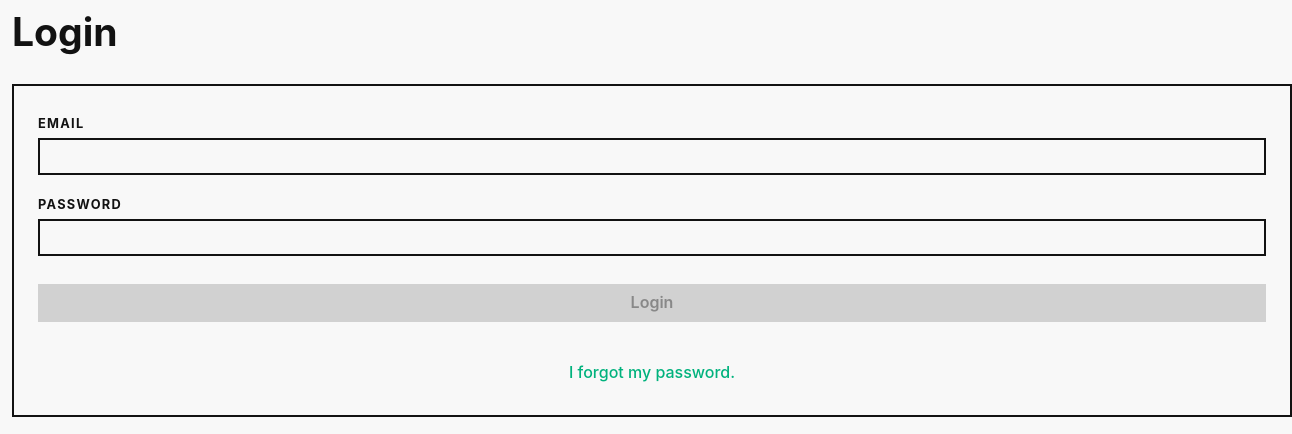
it: disables the submit button until all inputs are filled out
Expected: the submit button is disabled, [38, 284, 1266, 322]
Type "hi@hi.com" into the field named "email" at coordinates (652, 156), box [38, 138, 1266, 175]
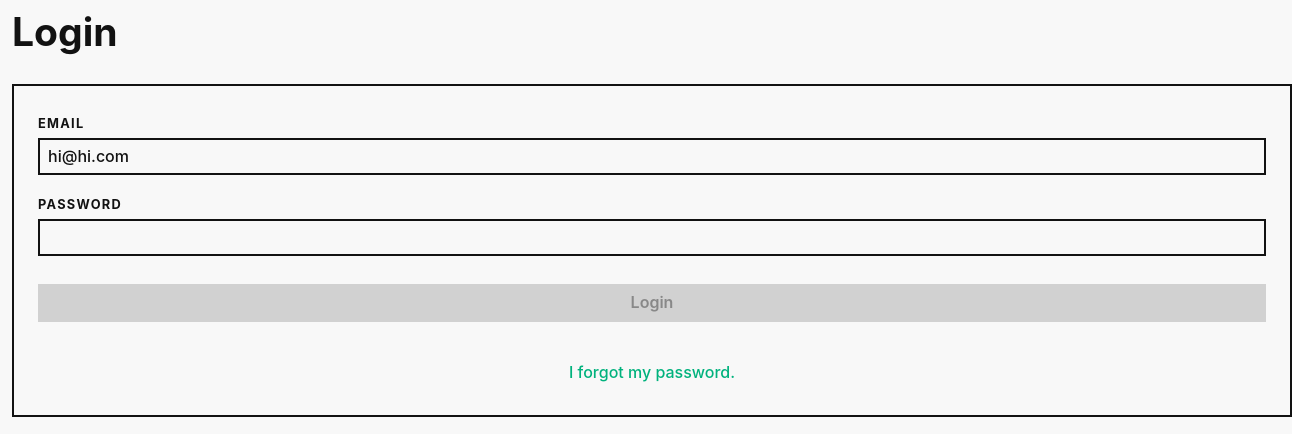
Expected: the submit button is disabled, [38, 284, 1266, 322]
Type "coolPassword" into the password field named "password" at coordinates (652, 238), box [38, 219, 1266, 256]
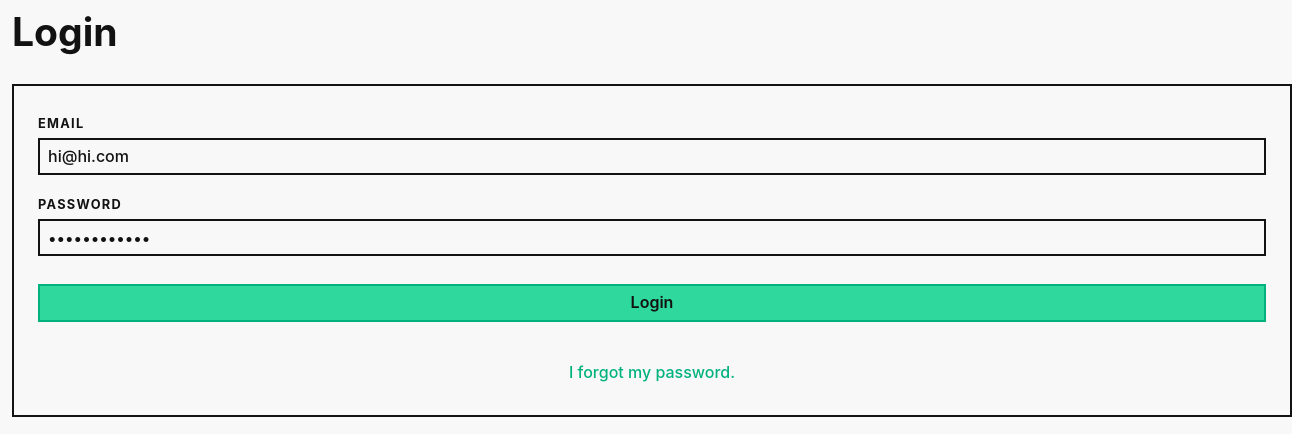
Expected: the submit button is enabled, [38, 284, 1266, 322]
